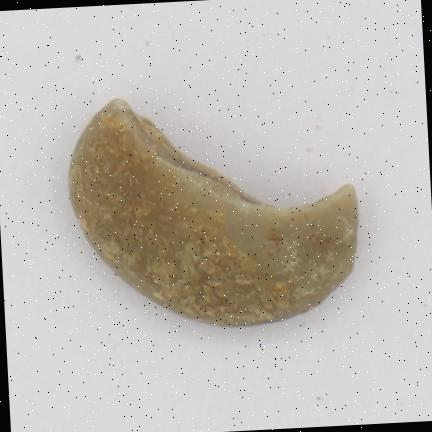broken: (69, 99, 358, 326)
